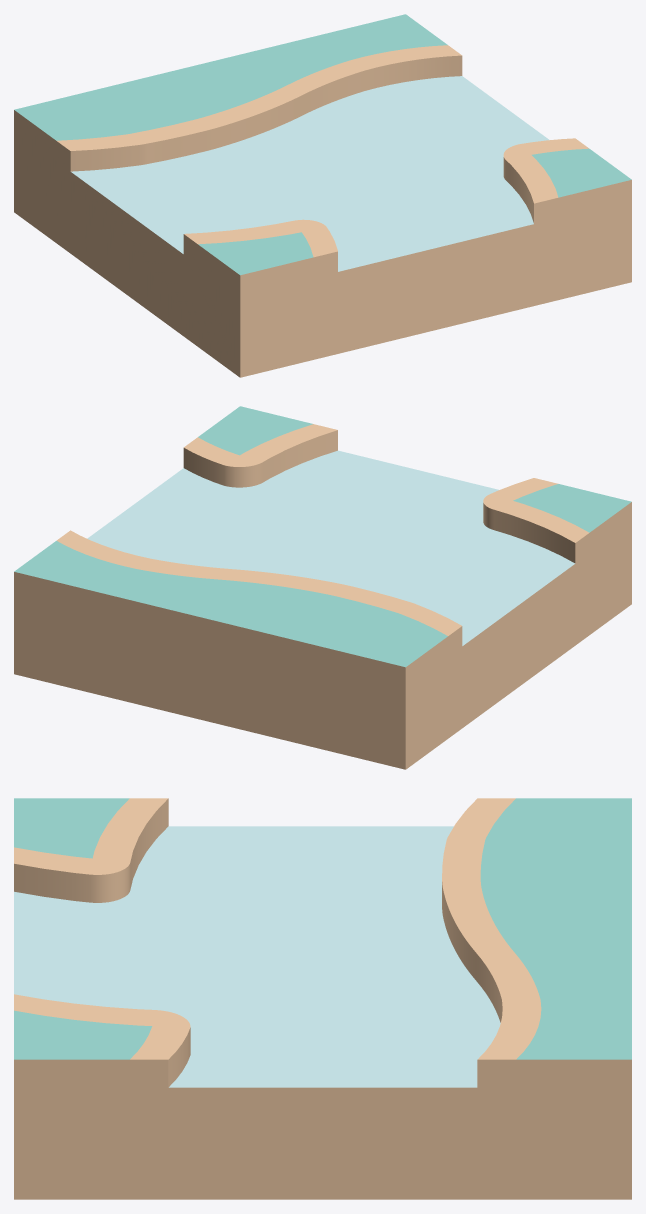
Rendered from ground_dirtRiverT.glb.
The picture shows the model from 3 angles, top to bottom: view 1: azimuth 30°, elevation 25°; view 2: azimuth 150°, elevation 25°; view 3: azimuth 270°, elevation 25°; orthographic projection. The views are drawn at different scales.
Parts seen in each view (by area): view 1: ground_dirtRiverT; view 2: ground_dirtRiverT; view 3: ground_dirtRiverT.
Boxes of the visible parts, x1,y1,x2,y2 form: ground_dirtRiverT: [14, 14, 631, 377]; ground_dirtRiverT: [14, 406, 631, 769]; ground_dirtRiverT: [14, 798, 631, 1199].
Size of the model in its own units: 1 by 0.25 by 1.
